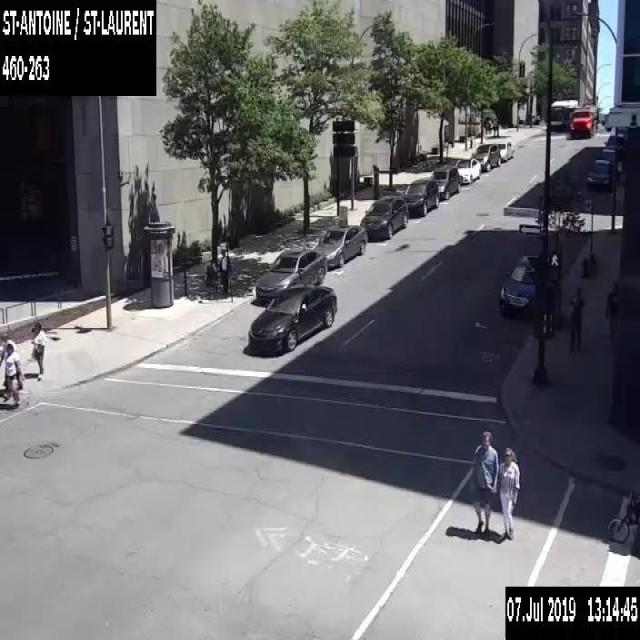bus: (550, 96, 577, 127)
cyclist: (608, 493, 639, 543)
pedestrian: (471, 430, 498, 538), (495, 446, 519, 540), (0, 341, 21, 408), (0, 329, 23, 388), (569, 284, 585, 352), (605, 279, 620, 340), (30, 321, 45, 379), (218, 247, 231, 292), (495, 122, 499, 135), (492, 122, 495, 135)
vehicle: (248, 284, 336, 350), (255, 248, 326, 302), (499, 253, 539, 320), (312, 224, 367, 266), (359, 193, 408, 238), (402, 177, 438, 216), (430, 165, 460, 199), (568, 104, 598, 138), (586, 158, 614, 190), (470, 142, 500, 170), (454, 157, 480, 183), (603, 132, 626, 156), (601, 147, 623, 171), (494, 140, 512, 160)
